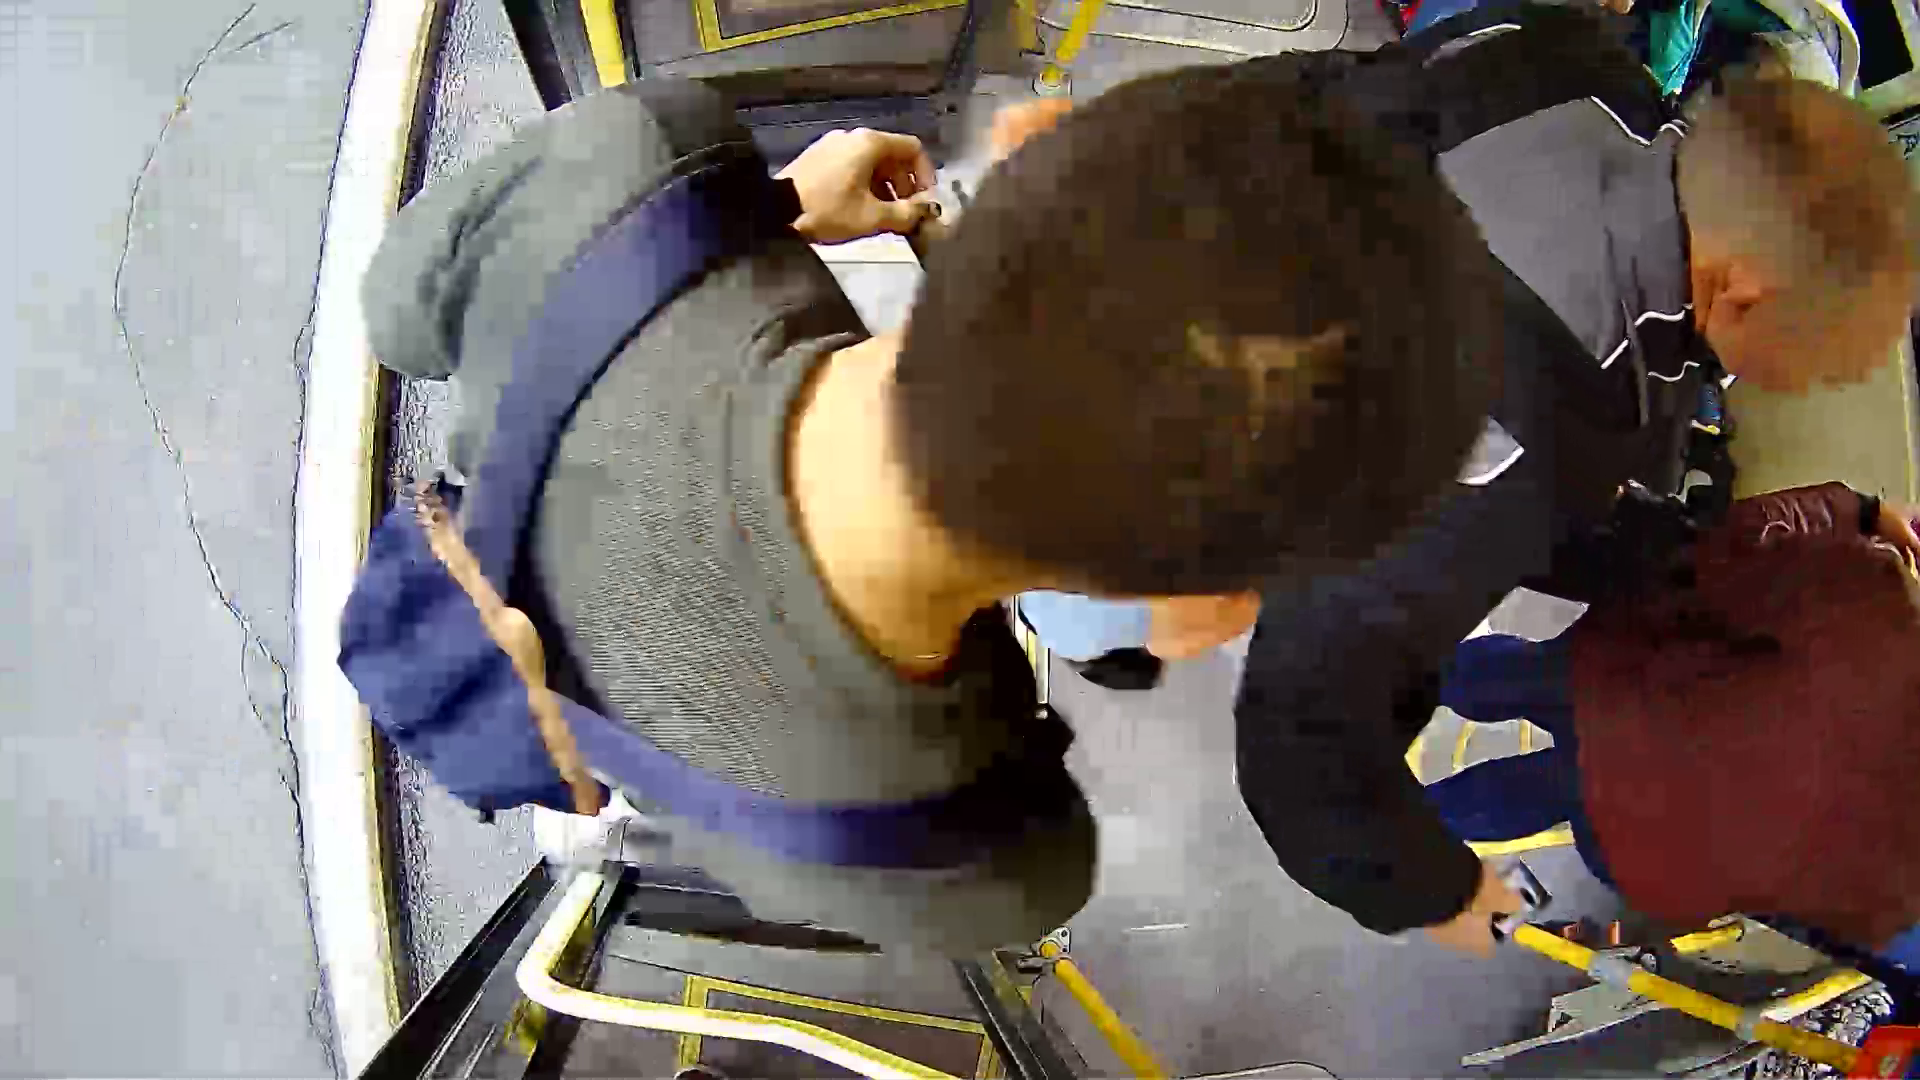person: (386, 79, 1504, 936)
